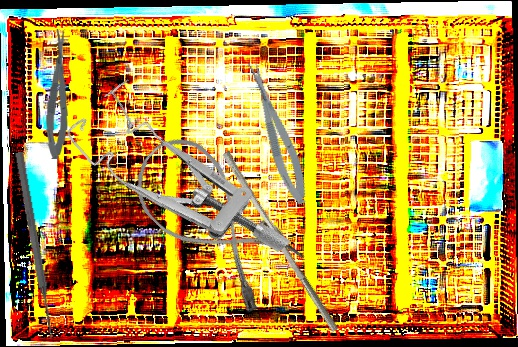Cannula: (117, 123, 310, 318)
Micro Scissor: (242, 57, 314, 208), (43, 28, 75, 160)
Pusher: (215, 150, 346, 333), (12, 151, 58, 339)
Speculum: (62, 64, 294, 308)
